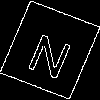N: (25, 25, 78, 81)
